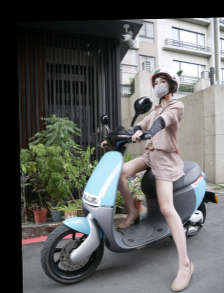with_mask: (152, 78, 171, 98)
